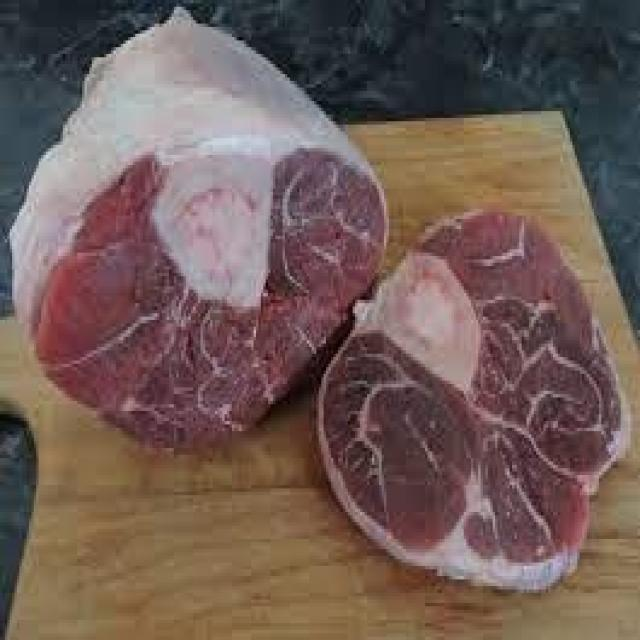Beef: (43, 162, 396, 480)
